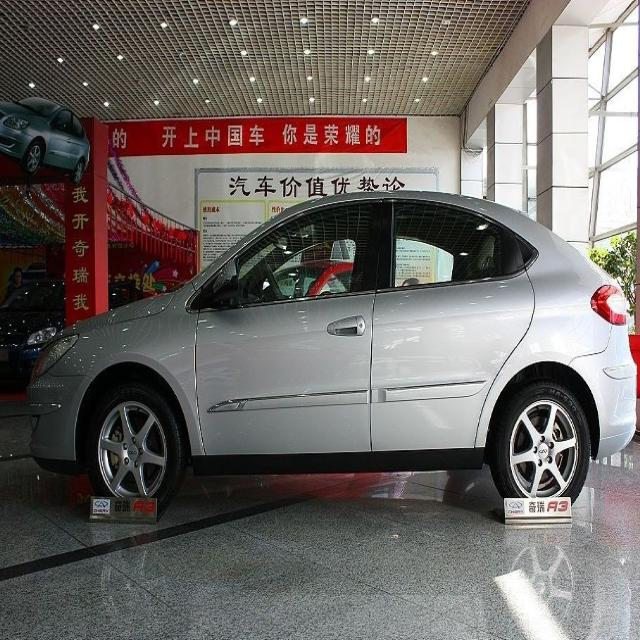back_left_side_light: (588, 282, 630, 326)
door: (370, 196, 544, 450)
front_bumper: (24, 370, 90, 468)
front_left_side_door: (194, 193, 386, 465)
front_left_side_light: (31, 328, 81, 378)
front_left_side_mirror: (207, 256, 241, 306)
rear_bumper: (565, 318, 639, 464)
wheel: (493, 386, 593, 512), (89, 385, 178, 512)
